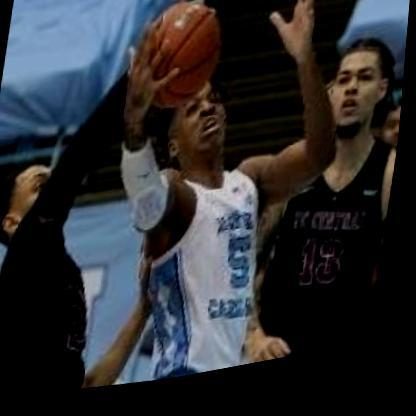basketball: (137, 0, 230, 122)
